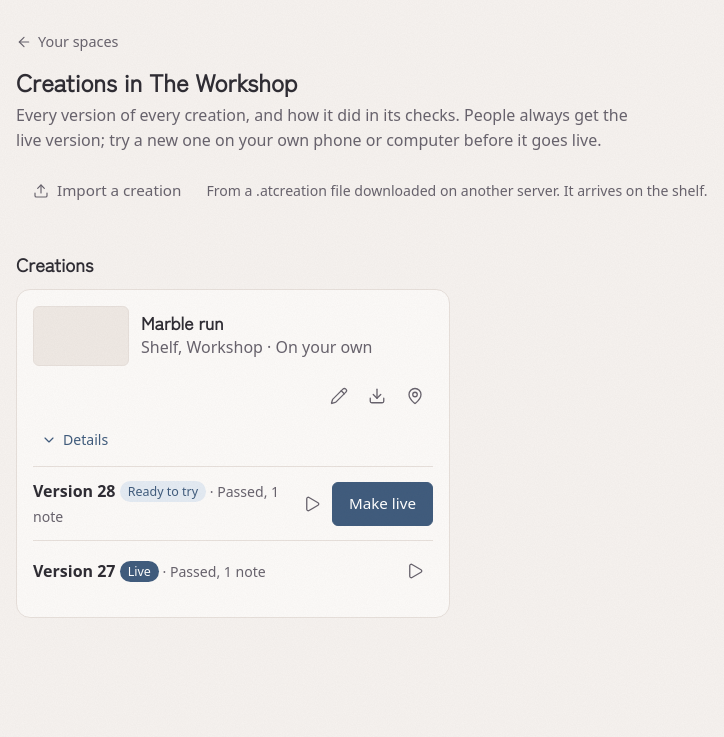
Scenario: a creation's versions, on the Creations page › asks first when there are services to allow, and the question holds the only way on
Click the button "Make live".
click(382, 504)  # box [332,482,433,526]
(page scrolled)
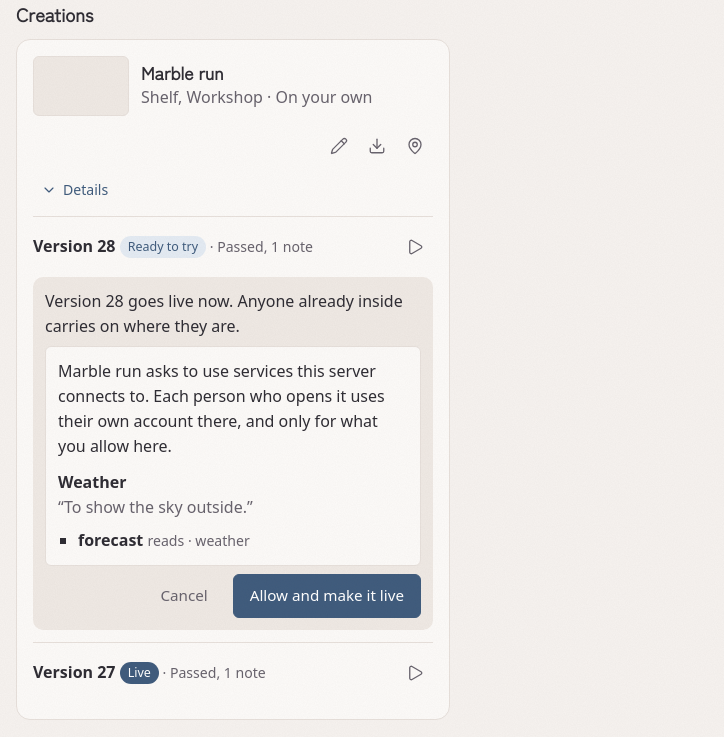
Expected: the element with class "studio-confirm" shows "To show the sky outside.", [64,496,247,518]
Click the button "Allow and make it live".
click(327, 596)  # box [233,574,421,618]
(page scrolled)
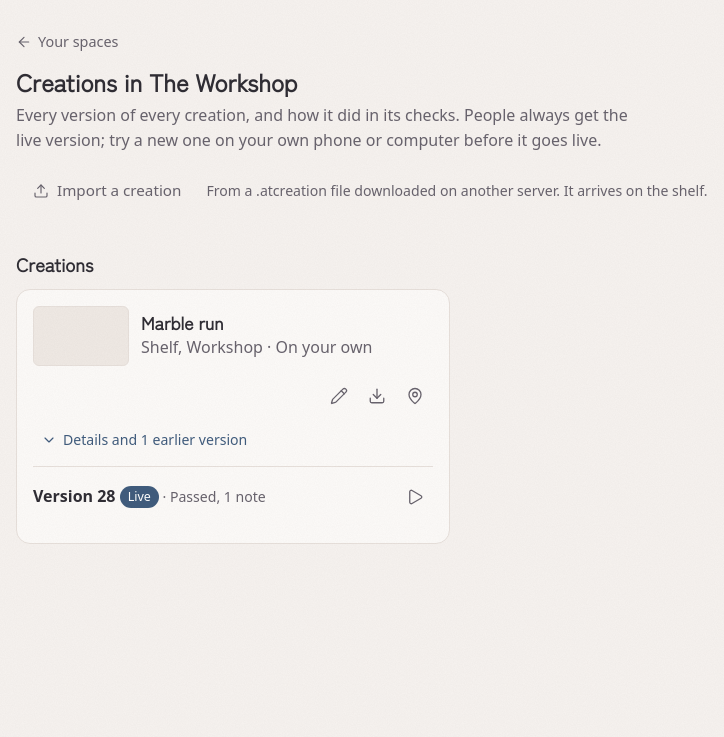
Expected: the element with class "studio-confirm" is gone
